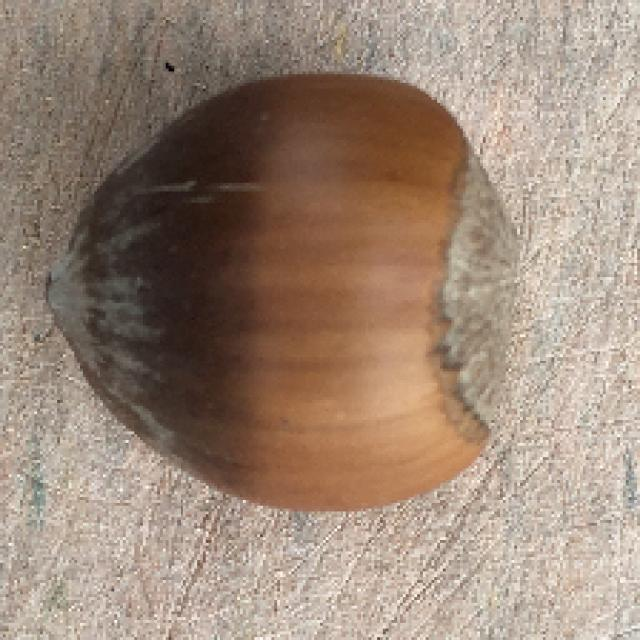qualityHazelnut: (44, 65, 538, 527)
